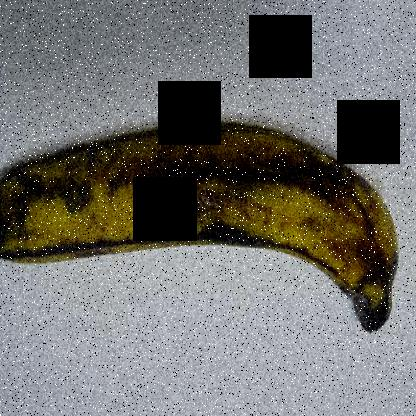overripe: (1, 92, 406, 356)
rotten: (135, 147, 266, 278)
